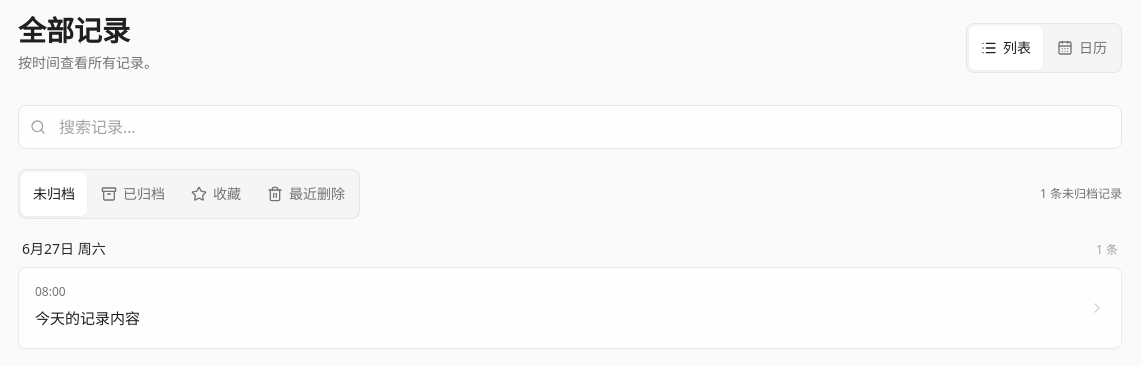
Scenario: TimelinePage › keeps the query but hides the base list after an initial search failure
This screenshot has width=1141, height=366.
Expected: the text "今天的记录内容" is shown, [35,308,140,328]
Type "重试查询" into the search field with placeholder "搜索记录…" at (570, 127), box [18,105,1122,149]
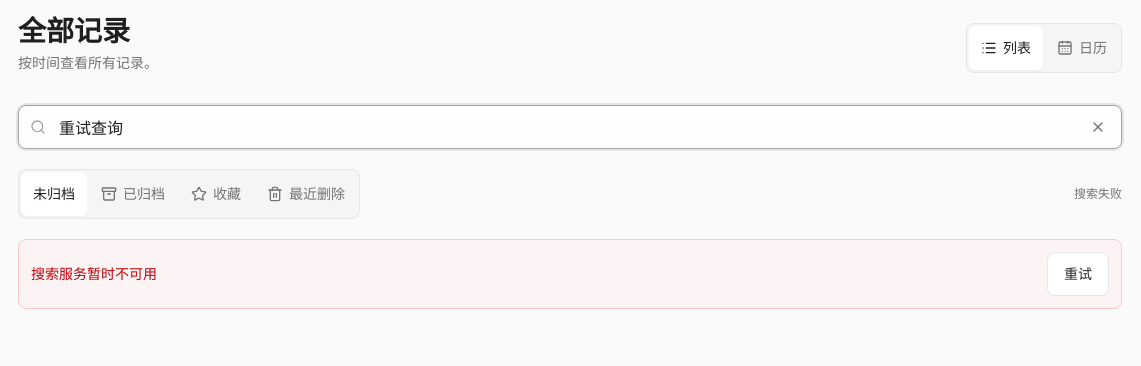
Now the message reads "搜索服务暂时不可用", box [31,264,157,283]
Now the link "今天的记录内容" is gone
Now the text "搜索失败" is shown, box [1074,186,1122,202]
Click the button "重试" at (1078, 274), box [1047,252,1109,296]
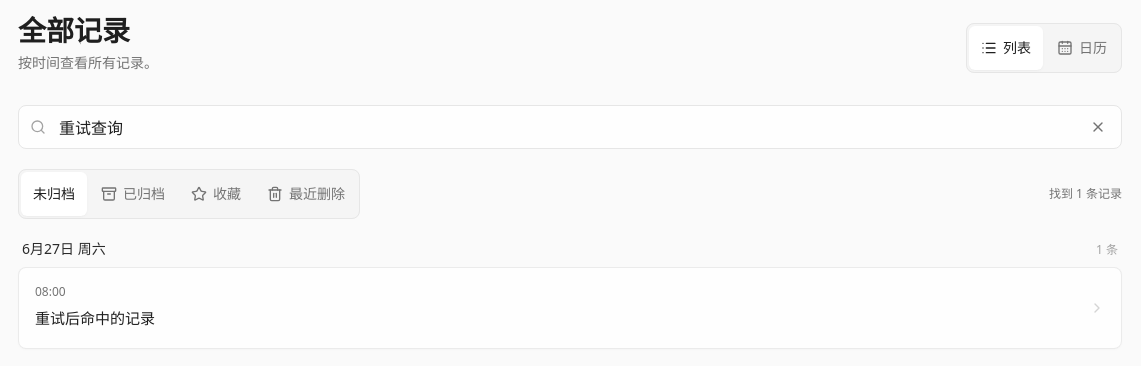
Now the text "重试后命中的记录" is shown, box [35,308,155,328]
